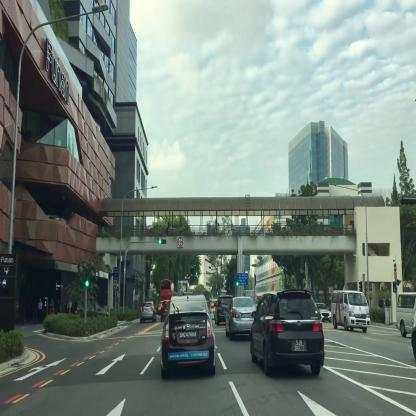green_traffic_light: (158, 238, 165, 243), (235, 274, 238, 284), (86, 271, 88, 286)
